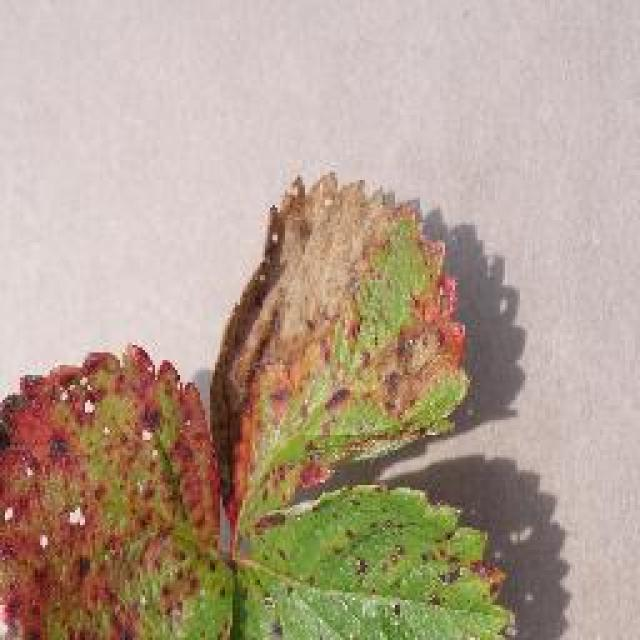Strawberry___Leaf_scorch: (0, 152, 545, 640)
